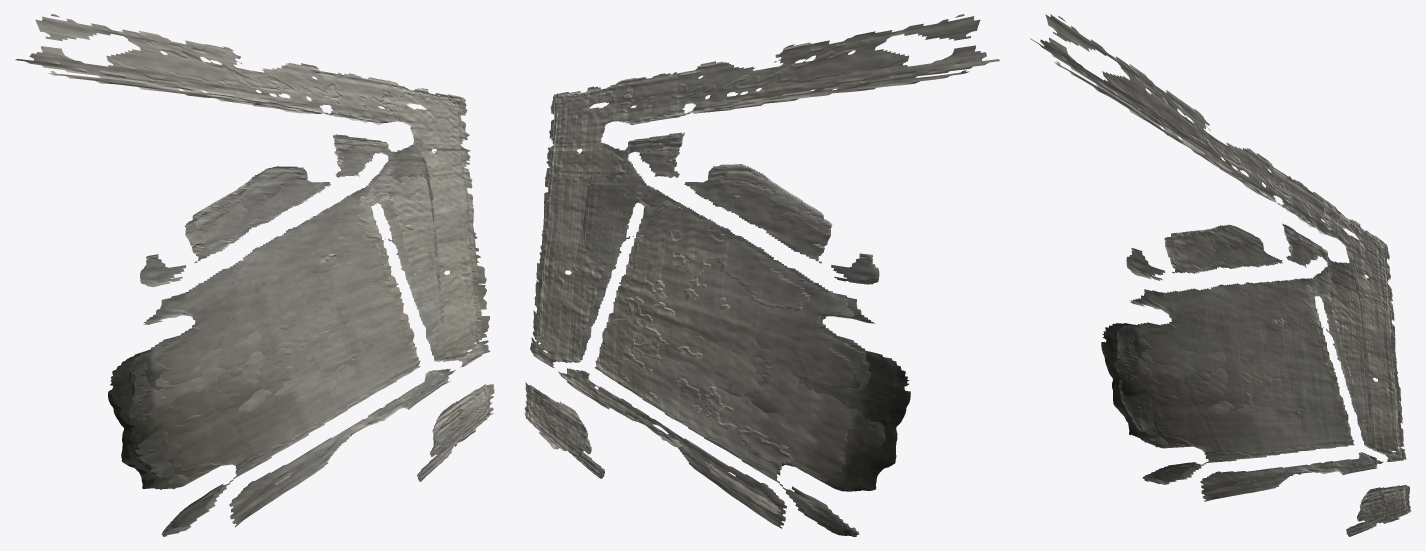
The model's file is entity-work-platform-1.glb.
3 renders of one model, left to right at view 1: azimuth 30°, elevation 25°; view 2: azimuth 150°, elevation 25°; view 3: azimuth 330°, elevation 25°, orthographic. The views are drawn at different scales.
Parts seen in each view (by area): view 1: geometry_0; view 2: geometry_0; view 3: geometry_0.
Boxes of the visible parts, x1,y1,x2,y2 form: geometry_0: (15,14,494,536); geometry_0: (524,14,999,536); geometry_0: (1030,14,1411,536).
Size of the model in its own units: 4.92 by 5.49 by 0.1551.
